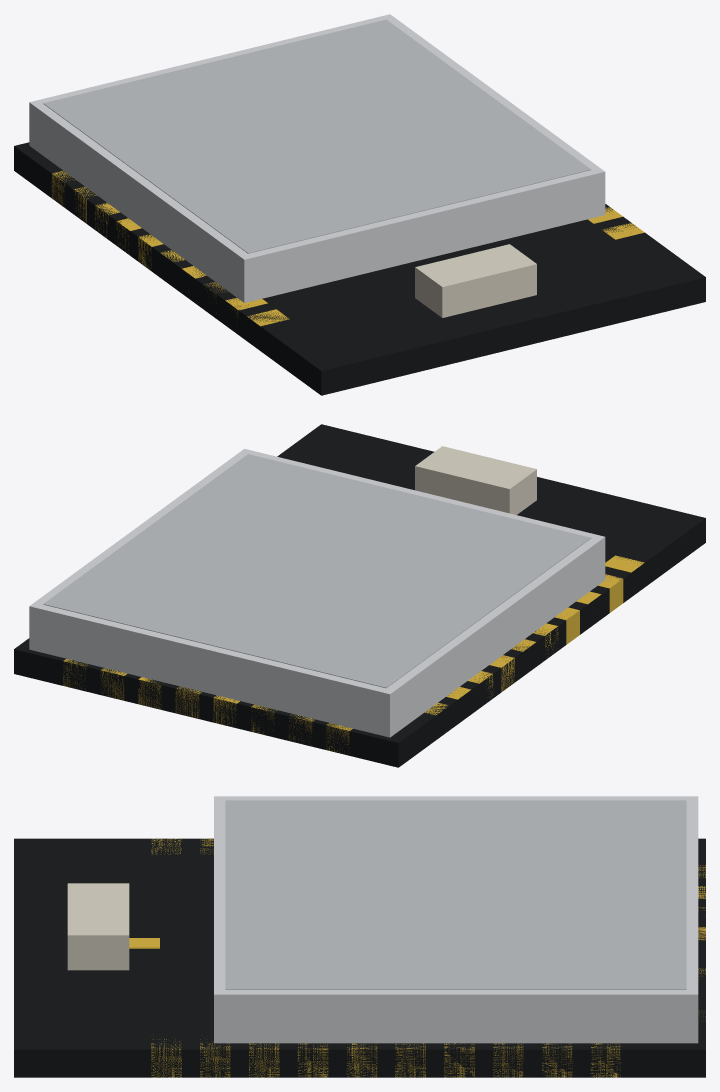
File: ebyte_e73_2g4m08s1c.glb
3 renders of one model, top to bottom at view 1: azimuth 30°, elevation 25°; view 2: azimuth 150°, elevation 25°; view 3: azimuth 270°, elevation 25°, orthographic. The views are drawn at different scales.
Parts seen in each view (by area): view 1: shield_lid, pcb, shield, antenna; view 2: shield_lid, pcb, shield, antenna, pad41; view 3: shield_lid, pcb, shield, antenna, pad3, pad1, pad5, pad4, pad2, pad10, pad6, pad8 (+1 smaller).
Part boxes in pixels (x1,y1,x2,y2): shield_lid: [43, 19, 591, 253]; pcb: [14, 142, 705, 395]; shield: [29, 14, 605, 302]; antenna: [415, 244, 536, 317]; shield_lid: [43, 454, 591, 688]; pcb: [14, 424, 705, 767]; shield: [29, 448, 605, 737]; antenna: [415, 446, 536, 514]; pad41: [598, 574, 623, 612]; shield_lid: [225, 800, 686, 989]; pcb: [14, 838, 705, 1077]; shield: [214, 796, 698, 1043]; antenna: [67, 883, 129, 970]; pad3: [249, 1043, 279, 1077]; pad1: [151, 1039, 181, 1077]; pad5: [347, 1043, 377, 1077]; pad4: [297, 1043, 328, 1077]; pad2: [200, 1039, 230, 1077]; pad10: [590, 1043, 620, 1077]; pad6: [395, 1043, 425, 1077]; pad8: [493, 1043, 523, 1077].
Size of the model in its own units: 0.013 by 0.00225 by 0.018.
